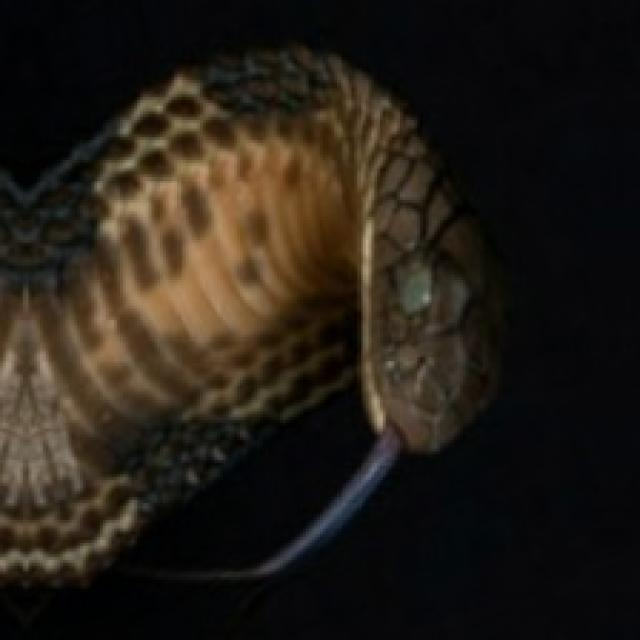king cobra: (0, 46, 500, 580)
